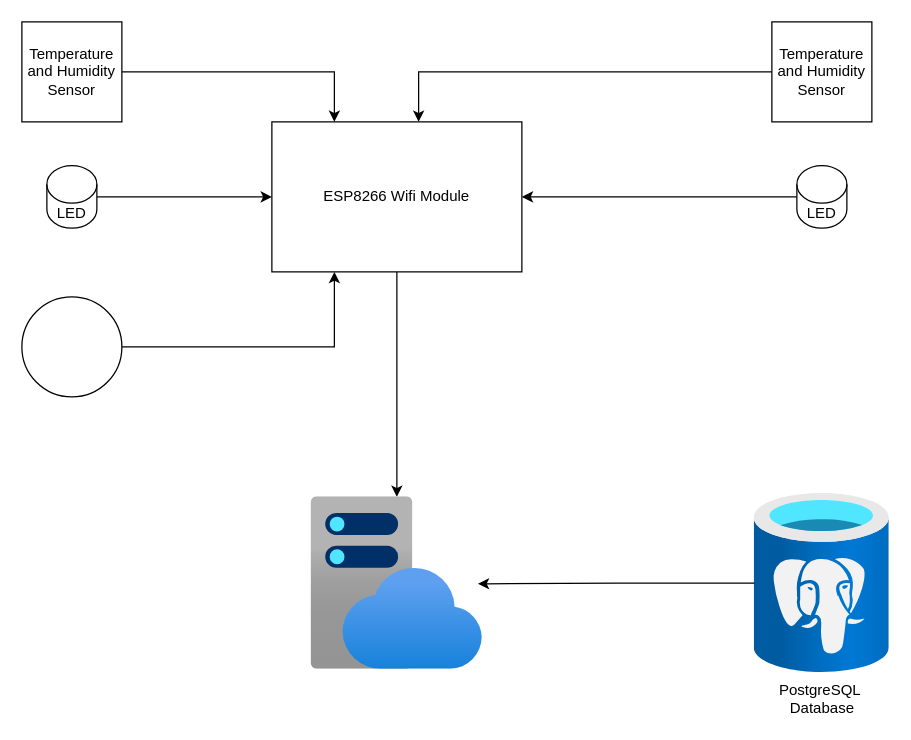
The diagram is 911 pixels wide and 740 high, and some of its shapes have lost their labels. Here are the shapes that lost their labels. From the top down, the centre of each, then its label:
At (71,346): "Microphone".
At (396,582): "Python Server".
